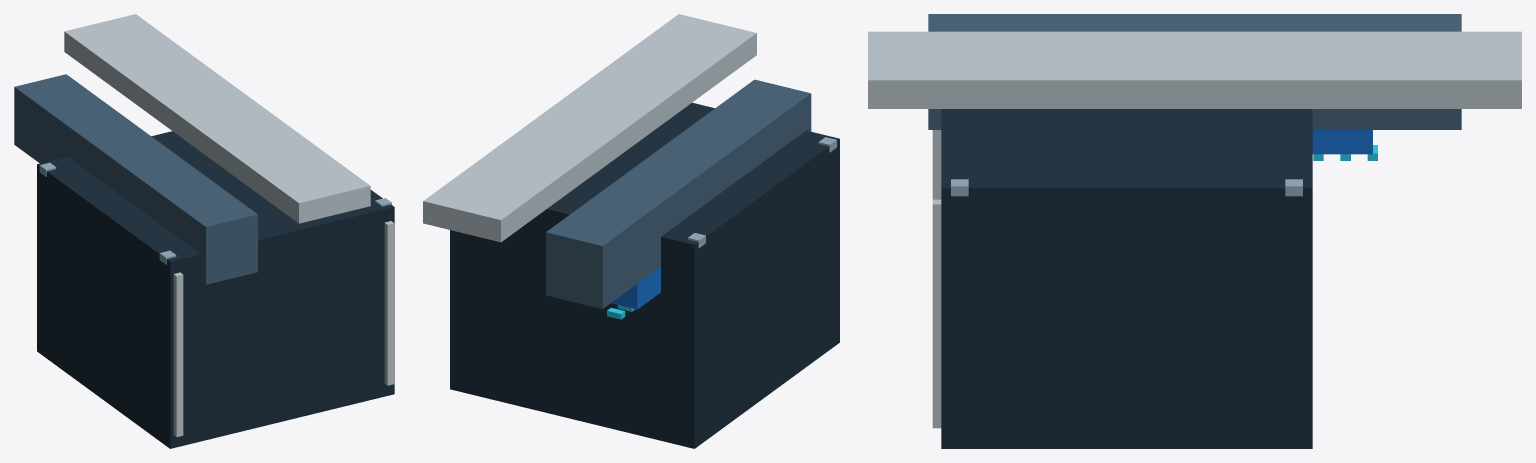
File: 27_L73_PadGrooveInspectionScanner.fbx
The picture shows the model from 3 angles, left to right: view 1: azimuth 30°, elevation 25°; view 2: azimuth 150°, elevation 25°; view 3: azimuth 270°, elevation 25°; orthographic projection. The views are drawn at different scales.
Parts seen in each view (by area): view 1: PadGrooveInspectionScanner, PadGrooveInspectionScanner_Part_0007; view 2: PadGrooveInspectionScanner, PadGrooveInspectionScanner_Part_0007, PadGrooveInspectionScanner_Part_0008; view 3: PadGrooveInspectionScanner, PadGrooveInspectionScanner_Part_0007, PadGrooveInspectionScanner_Part_0008.
Boxes of the visible parts, <box> form: PadGrooveInspectionScanner: <box>37,14,394,448</box>; PadGrooveInspectionScanner_Part_0007: <box>14,74,257,284</box>; PadGrooveInspectionScanner: <box>423,14,839,448</box>; PadGrooveInspectionScanner_Part_0007: <box>546,79,811,308</box>; PadGrooveInspectionScanner_Part_0008: <box>611,266,660,309</box>; PadGrooveInspectionScanner: <box>868,31,1521,448</box>; PadGrooveInspectionScanner_Part_0007: <box>928,14,1461,129</box>; PadGrooveInspectionScanner_Part_0008: <box>1312,130,1372,154</box>.
Size of the model in its own units: 69.44 by 70.5 by 125.
